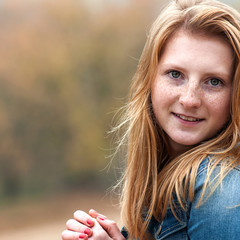teen: (146, 25, 224, 138)
